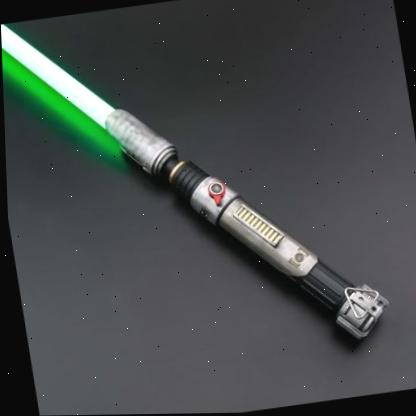lightsaber: (0, 0, 401, 392)
